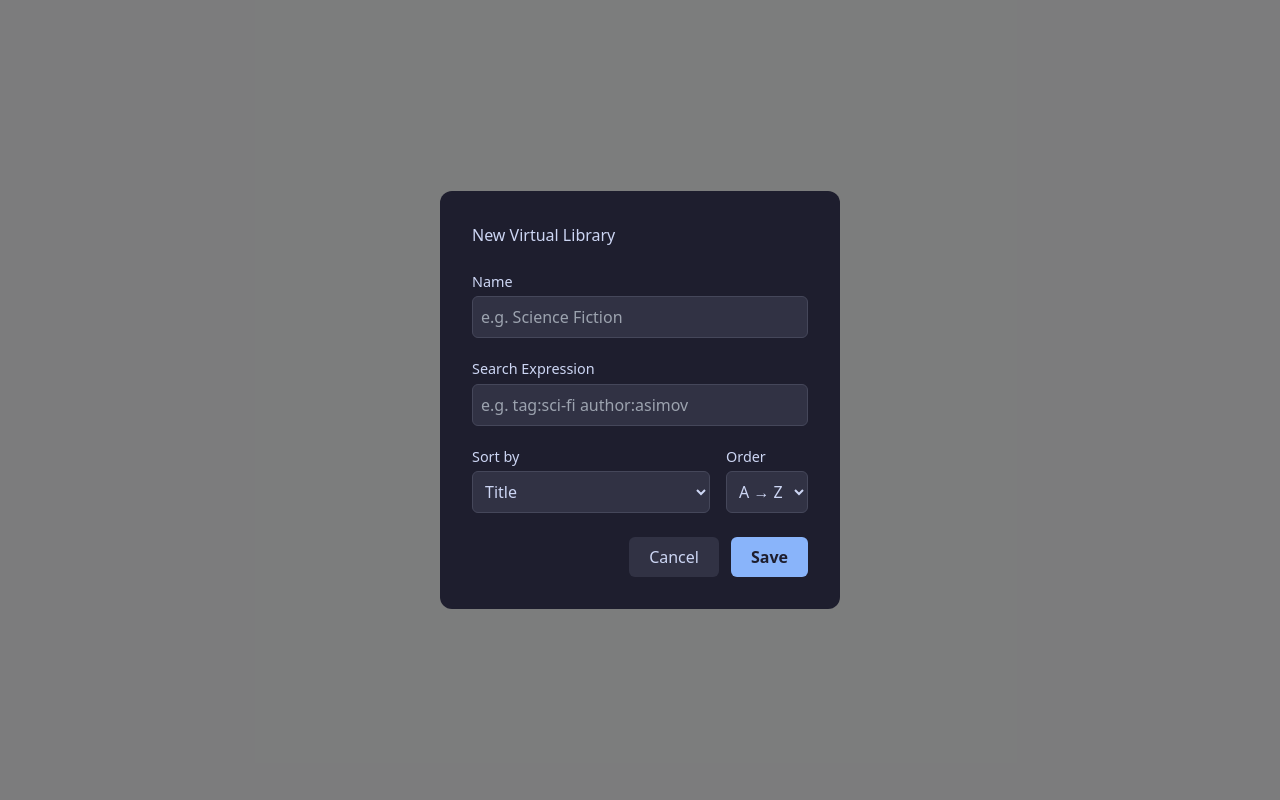
VirtualLibraryEditor › shows validation error when name is empty
Type "tag:sci-fi" into the field with test id "vlib-search-input".
click(640, 405); type("tag:sci-fi")  # box [472, 384, 808, 426]
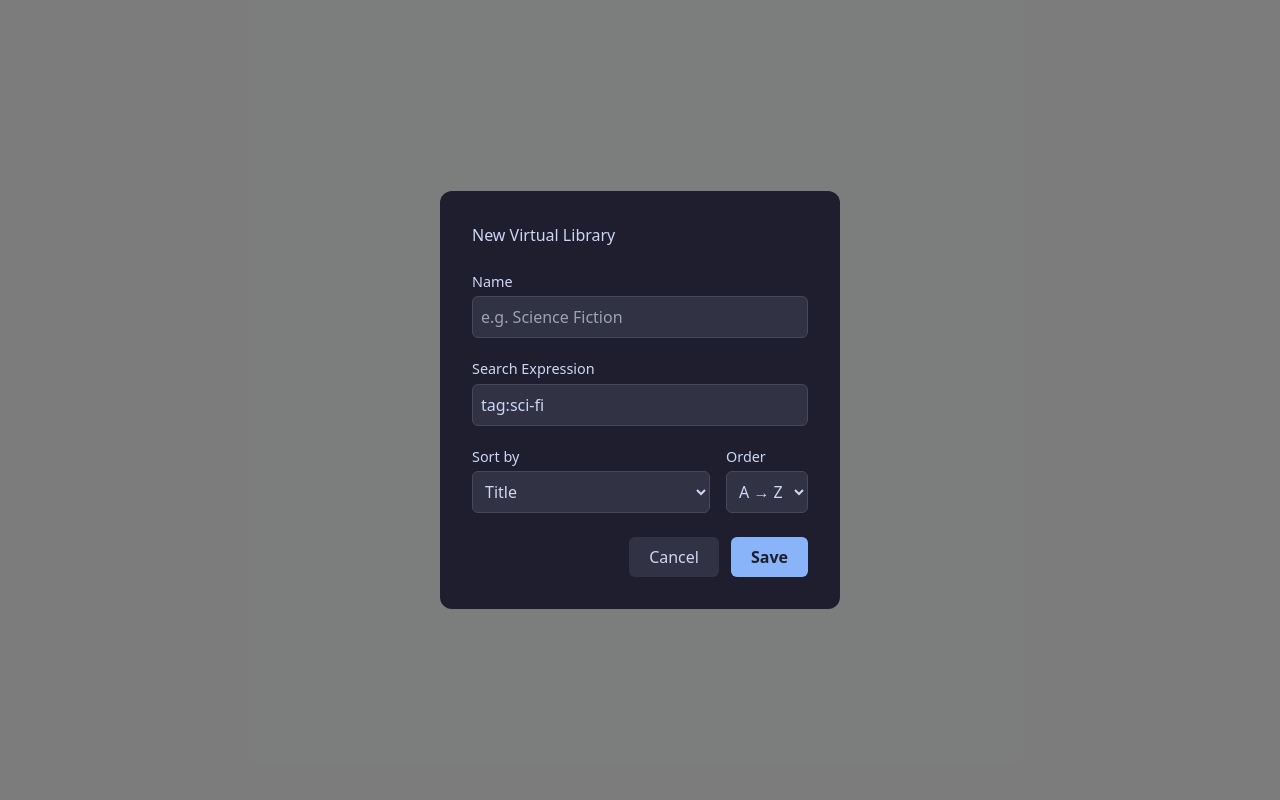
Click the button with test id "vlib-save-btn".
click(770, 557)  # box [731, 537, 808, 577]
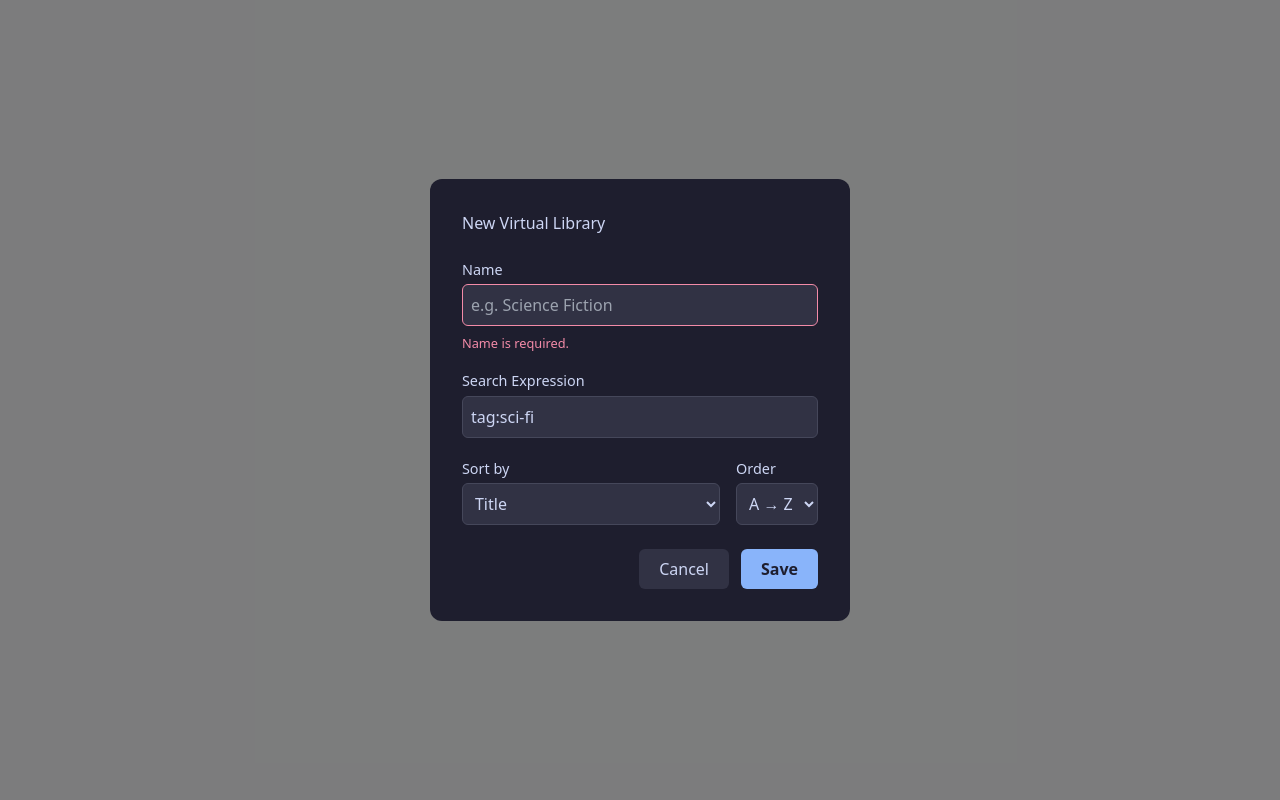
Expected: the text "Name is required." is shown, [462, 334, 569, 352]
